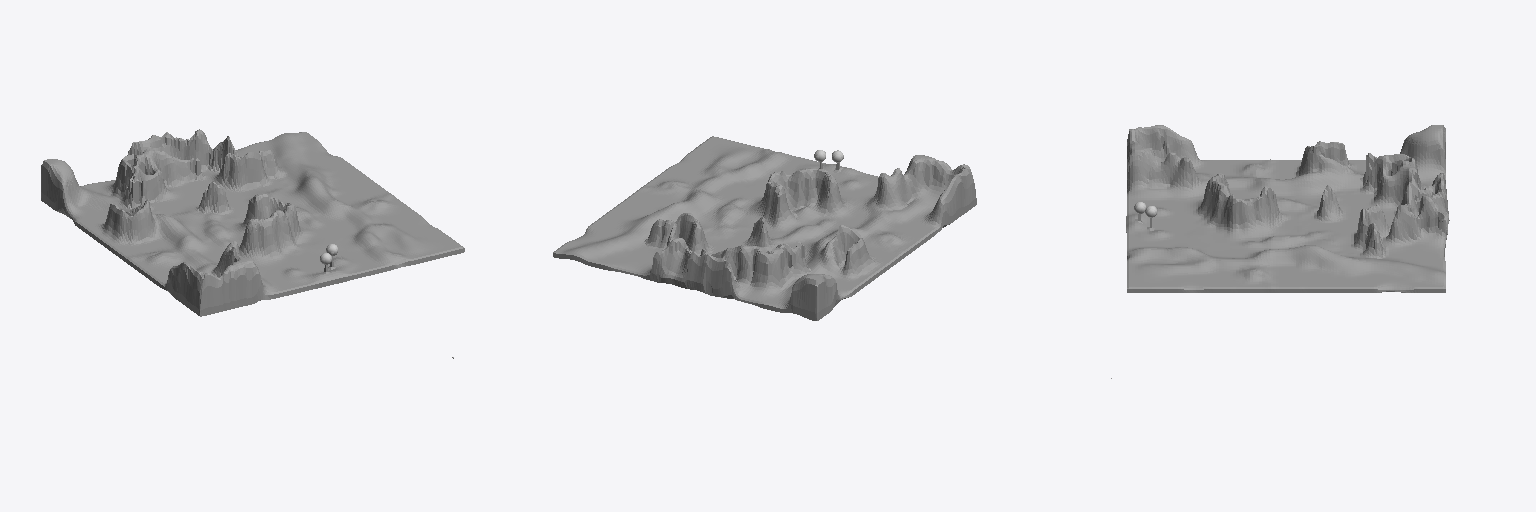
Rendered from tarrenito.obj.
3 renders of one model, left to right at view 1: azimuth 30°, elevation 25°; view 2: azimuth 150°, elevation 25°; view 3: azimuth 270°, elevation 25°, orthographic.
Parts seen in each view (by area): view 1: Cube; view 2: Cube; view 3: Cube.
Boxes of the visible parts, x1,y1,x2,y2 form: Cube: [41, 129, 464, 358]; Cube: [553, 136, 976, 320]; Cube: [1111, 125, 1449, 378].
Size of the model in its own units: 352 by 173 by 390.